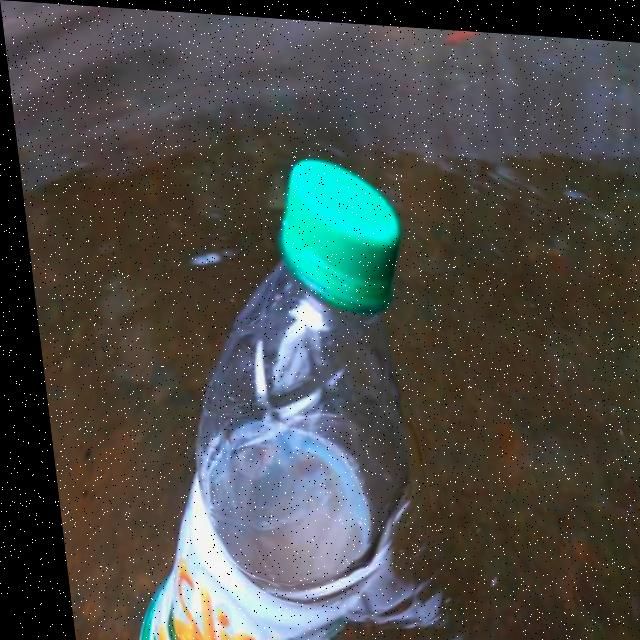leaf: (617, 406, 640, 594)
waterbottle: (75, 110, 454, 640)
